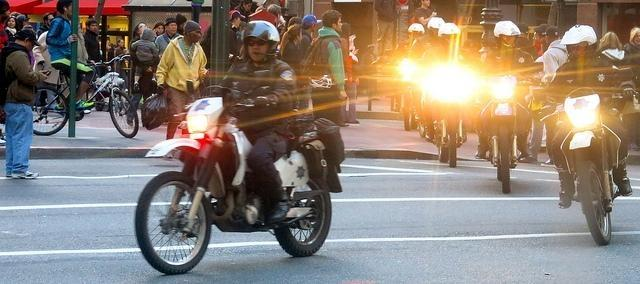bicycle: (30, 56, 136, 136)
motorcycle: (134, 99, 343, 271), (533, 84, 640, 247), (402, 61, 493, 168), (479, 76, 546, 194), (372, 60, 420, 136)
